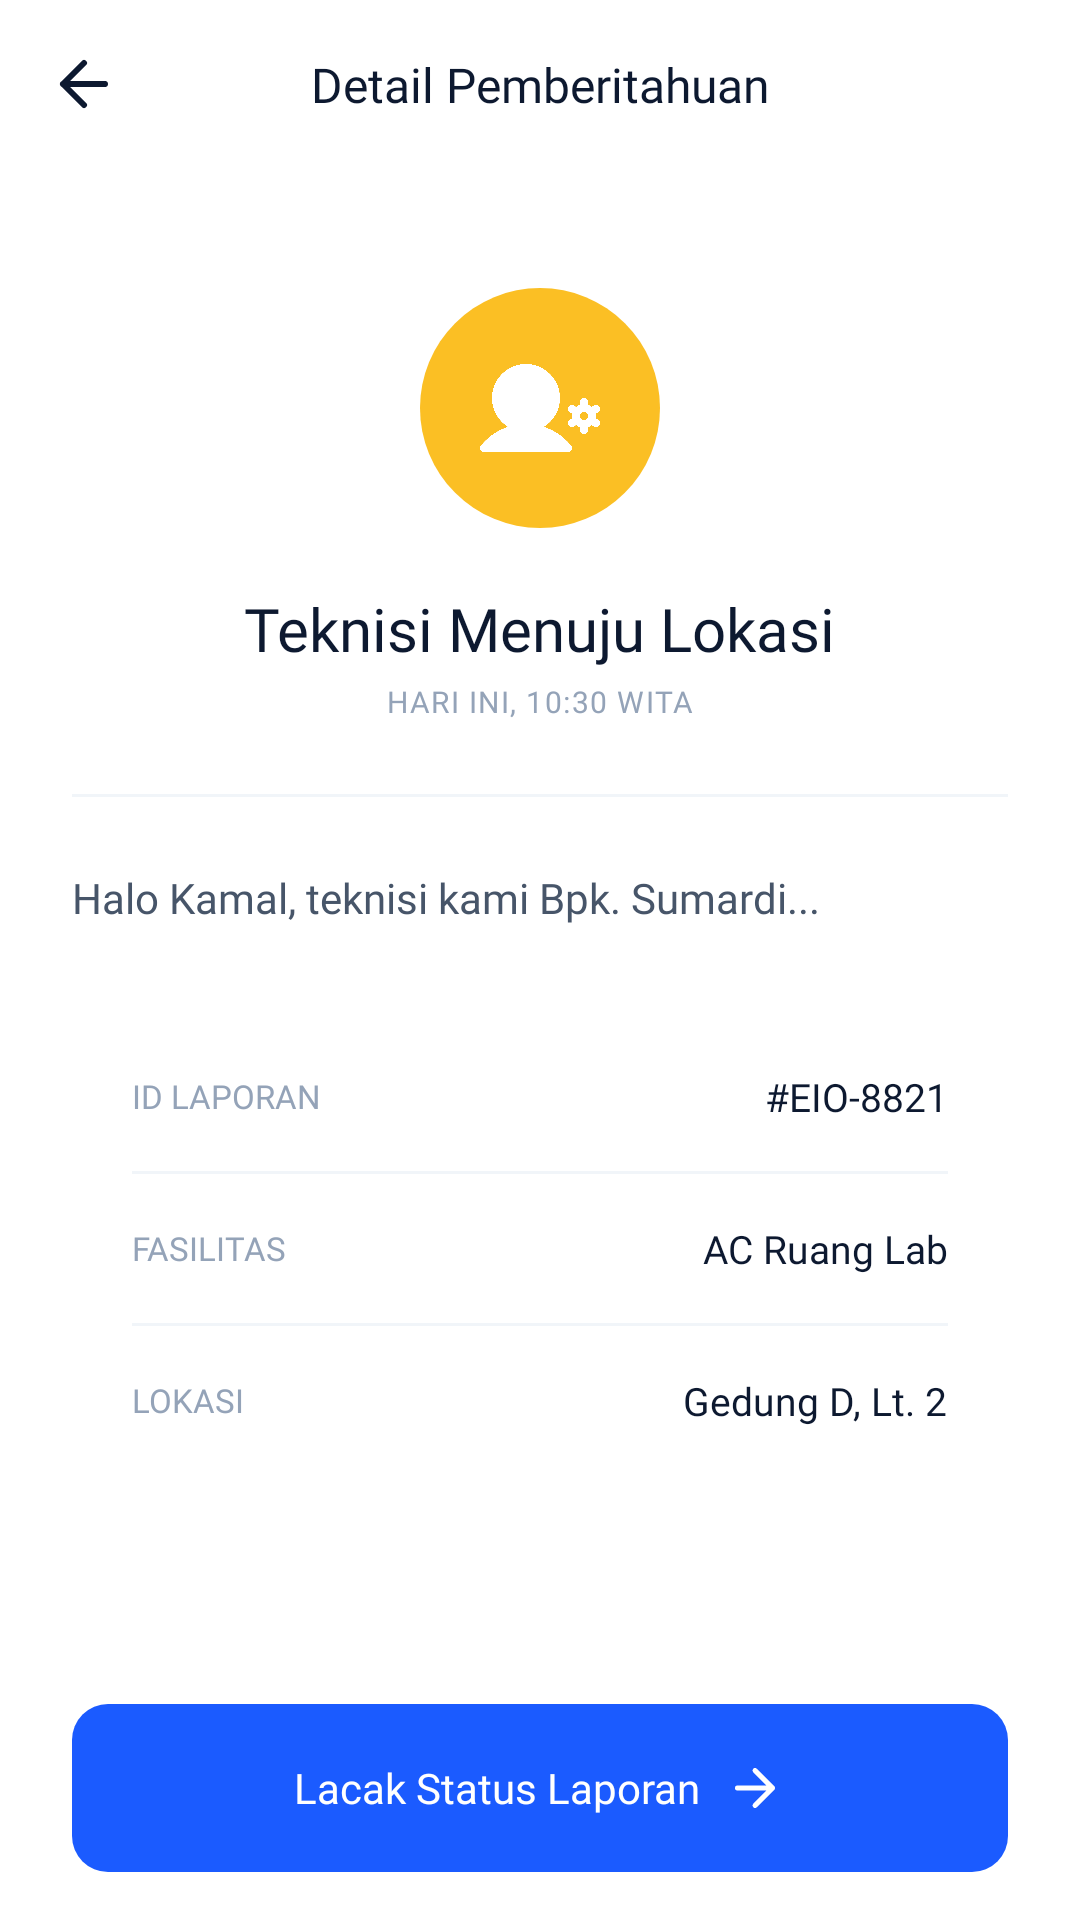

Icons on this 1080 x 1920 Android screen, each with its box as (x1, y1, x2, y2):
arrow right: (735, 1768, 775, 1808)
back: (60, 60, 108, 108)
technician: (480, 364, 600, 452)
